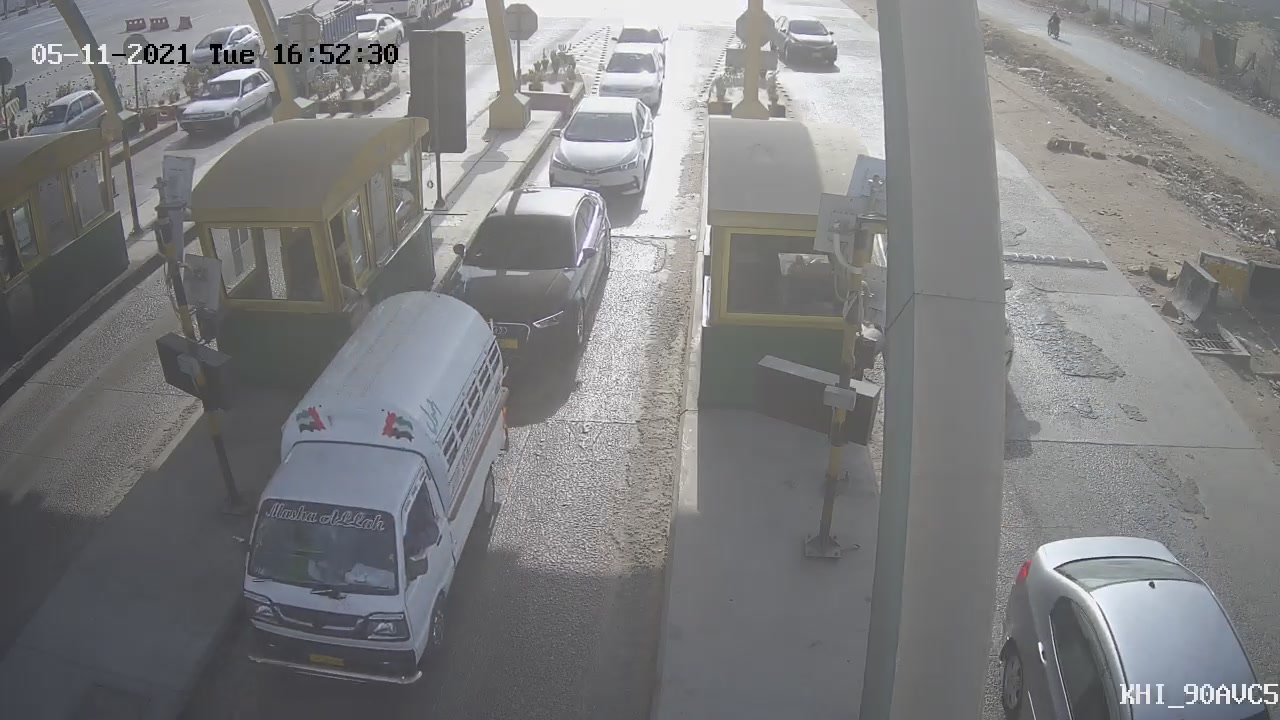F1: (431, 169, 626, 377), (535, 73, 669, 224)
